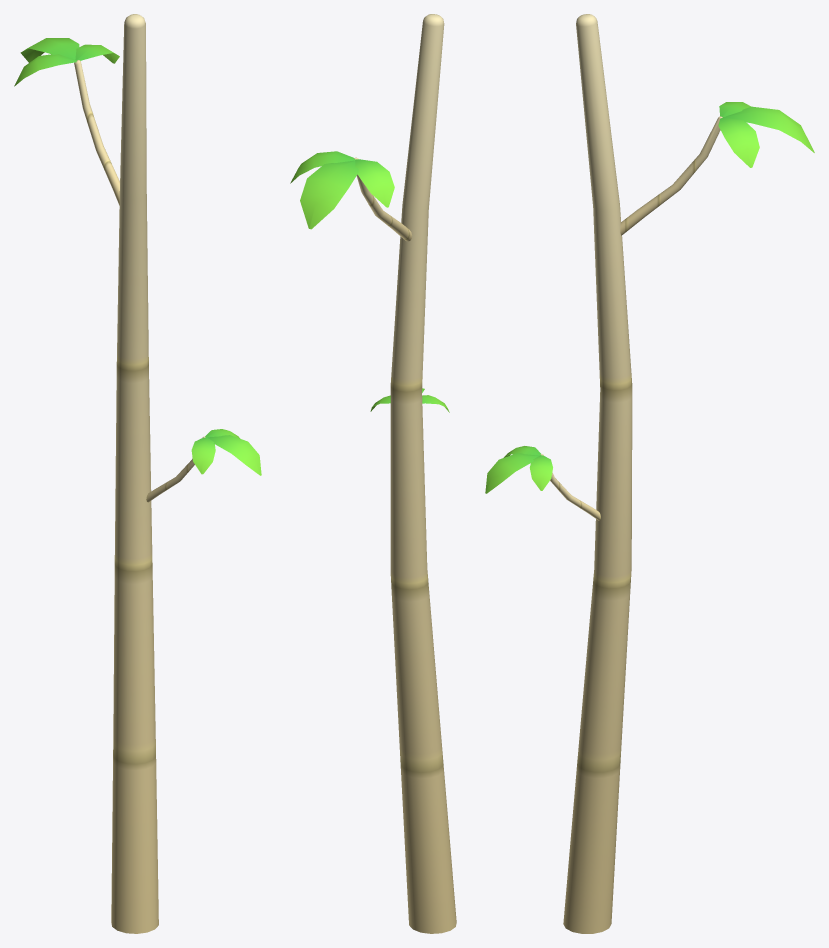
File: Bamboo001.fbx
3 renders of one model, left to right at view 1: azimuth 30°, elevation 25°; view 2: azimuth 150°, elevation 25°; view 3: azimuth 270°, elevation 25°, orthographic.
Visible parts, largest first — view 1: Bamboo001; view 2: Bamboo001; view 3: Bamboo001.
Boxes of the visible parts, left/top/right/bottom form: Bamboo001: left=14, top=14, right=261, bottom=933; Bamboo001: left=290, top=14, right=456, bottom=933; Bamboo001: left=485, top=14, right=814, bottom=933.
Size of the model in its own units: 45.63 by 321 by 105.
